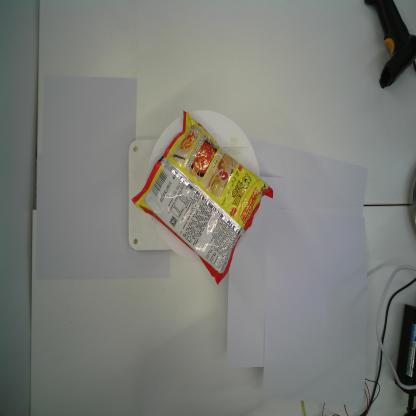Instant Noodles: (129, 108, 275, 287)
